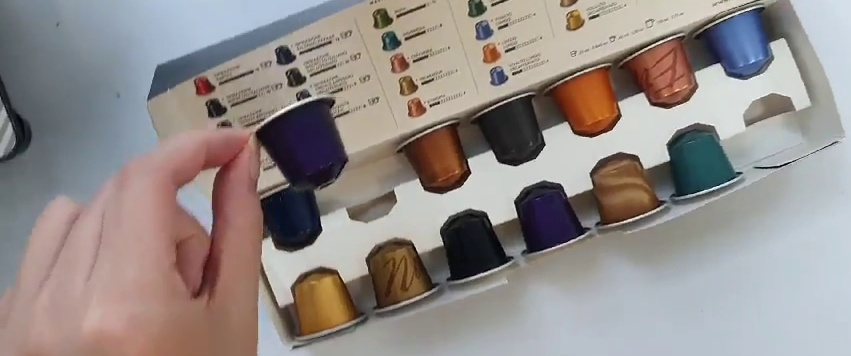capsule_2: (253, 93, 349, 192)
